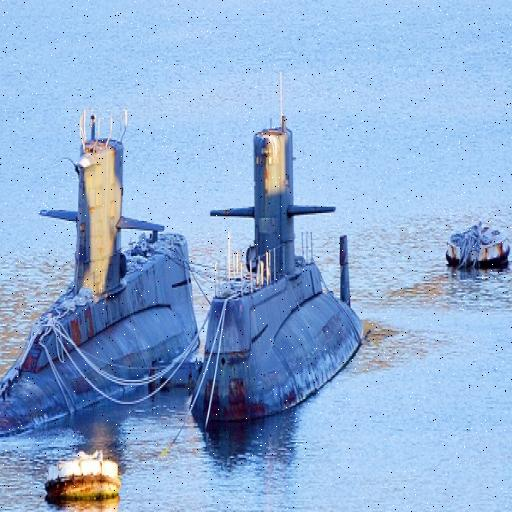submarine: (1, 135, 205, 454), (192, 127, 362, 424)
